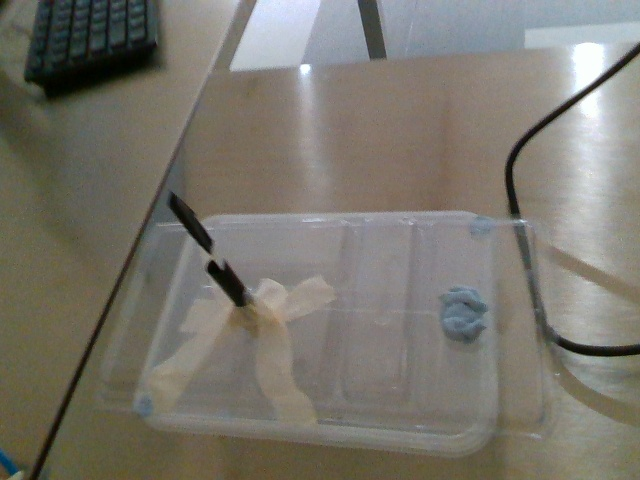test_strip: (163, 192, 223, 267)
